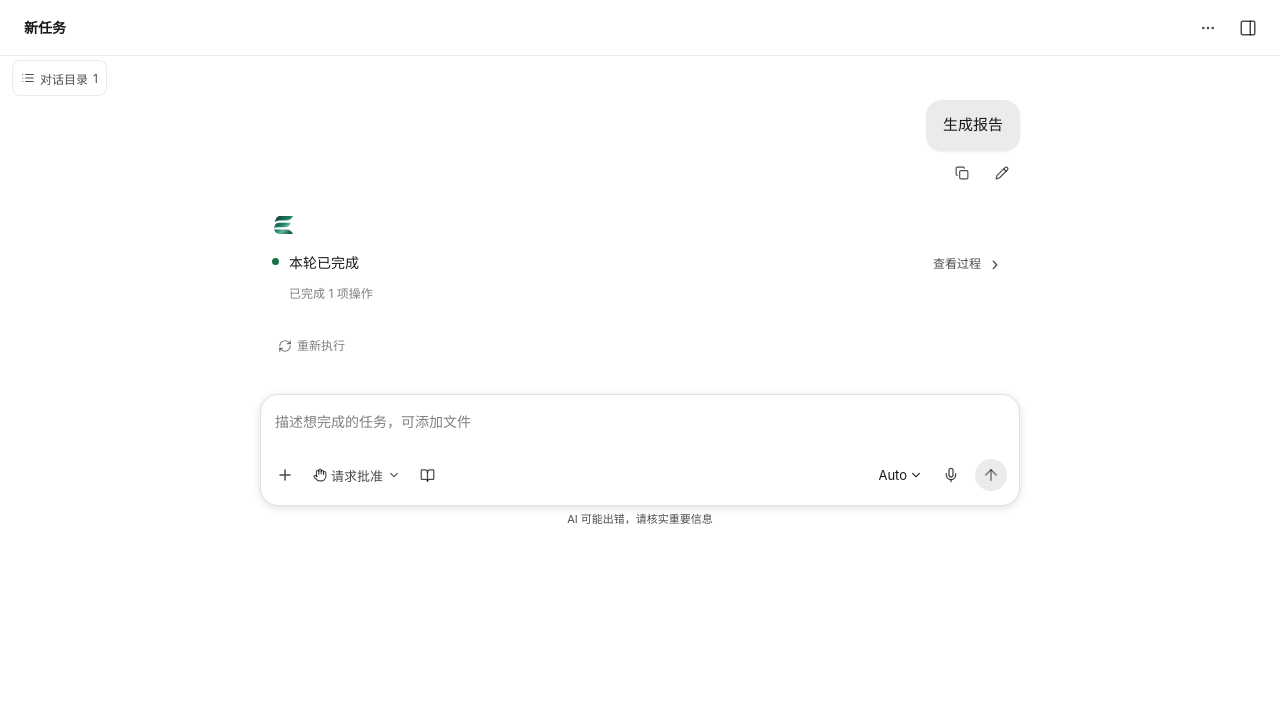
Test: ChatView pause/yield/resume 闭环 › 工作目录失效会撤销已打开的重新执行确认
Click the button "重新执行" at point(312, 346), box [272,328,351,364]
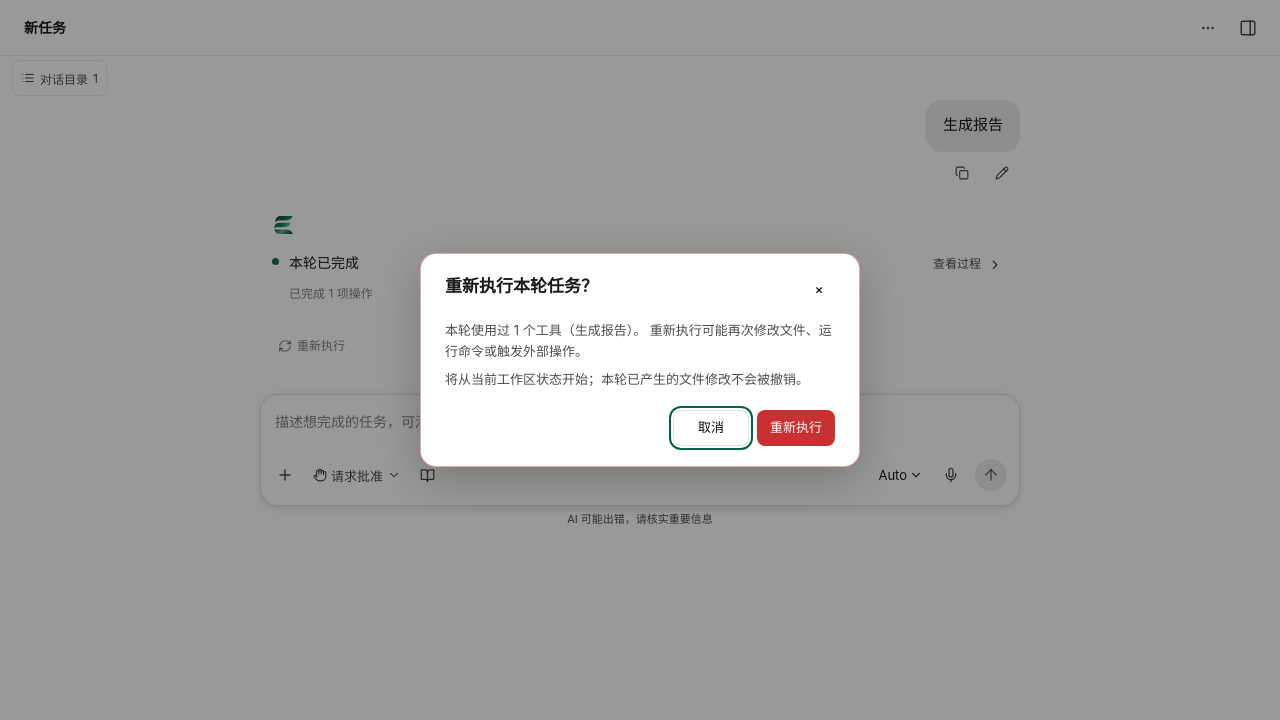
expect the dialog "重新执行本轮任务？" is shown: met, box [420,253,860,467]
